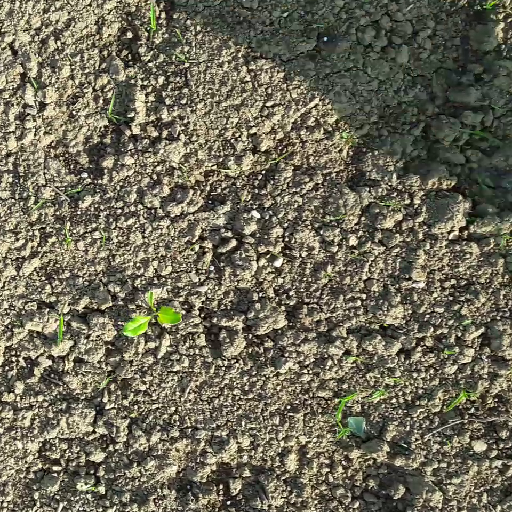sugarbeet: (119, 287, 183, 338)
weed: (334, 393, 359, 440), (104, 91, 130, 127), (368, 377, 400, 403), (445, 388, 479, 411), (57, 227, 75, 251), (146, 4, 158, 39), (57, 312, 66, 350), (96, 377, 115, 395), (383, 197, 403, 210), (95, 228, 106, 247), (339, 129, 352, 139)
